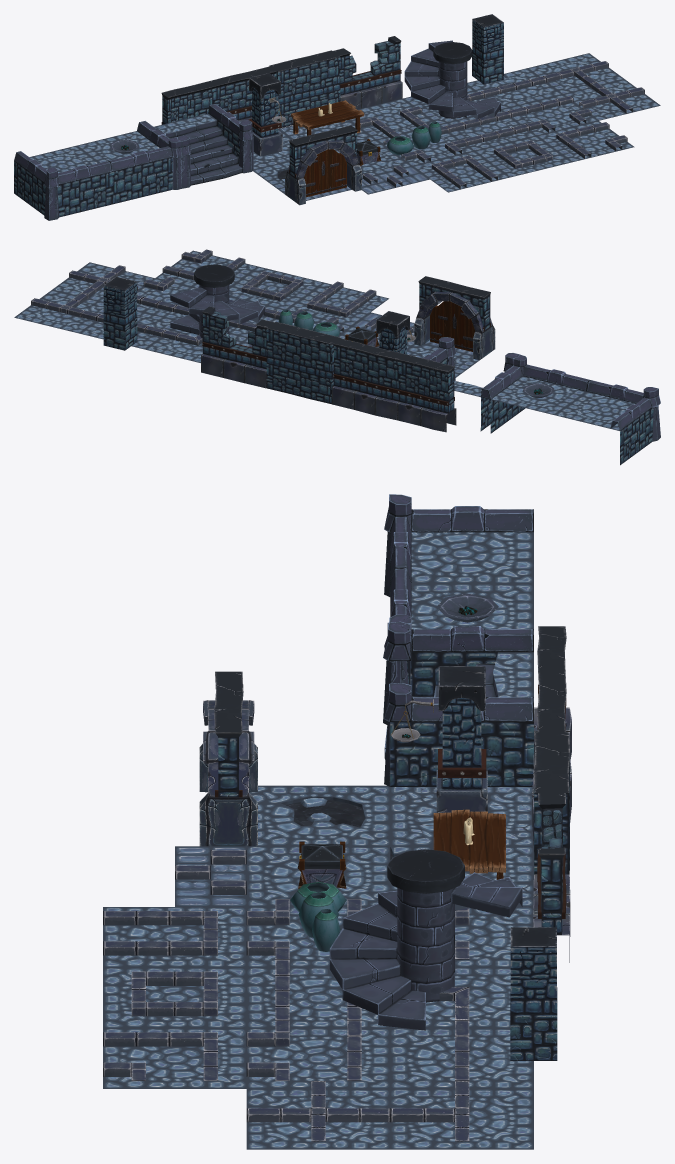
File: blue_dungeon.fbx
3 renders of one model, top to bottom at view 1: azimuth 30°, elevation 25°; view 2: azimuth 150°, elevation 25°; view 3: azimuth 270°, elevation 25°, orthographic. The views are drawn at different scales.
Visible parts, largest first — view 1: ground-2_corner, stairs_1, stairs_2, ground-2, wall2, ground_9, ground_12, Cube_001, ground_7, ground_5, ground_6, pylon_1 (+25 smaller); view 2: wall2, ground-2_corner, stairs_2, wall1, wall3, stairs_1, ground-2, ground_6, ground_5, Cube_001, ground_13, pylon_2 (+18 smaller); view 3: stairs_2, stairs_1, ground-2_corner, ground_7, ground_12, ground_5, ground_13, ground_9, ground_6, ground_3, ground_15, pylon_1 (+21 smaller).
Part boxes in pixels (box(x1,y1,x2,y2)): ground-2_corner: box(14, 146, 111, 220); stairs_1: box(137, 103, 253, 189); stairs_2: box(404, 40, 500, 119); ground-2: box(76, 131, 172, 204); wall2: box(269, 50, 340, 128); ground_9: box(537, 121, 634, 162); ground_12: box(563, 79, 660, 120); Cube_001: box(333, 36, 401, 95); ground_7: box(501, 94, 598, 135); ground_5: box(475, 136, 571, 177); ground_6: box(412, 151, 509, 192); pylon_1: box(248, 73, 282, 156); wall2: box(266, 321, 341, 404); ground-2_corner: box(555, 380, 660, 465); stairs_2: box(170, 264, 264, 341); wall1: box(333, 338, 405, 401); wall3: box(398, 354, 454, 413); stairs_1: box(423, 337, 526, 433); ground-2: box(491, 364, 590, 414); ground_6: box(287, 281, 388, 325); ground_5: box(229, 266, 323, 309); Cube_001: box(202, 306, 274, 369); ground_13: box(14, 290, 103, 333); pylon_2: box(103, 276, 137, 350); stairs_2: box(329, 849, 522, 1030); stairs_1: box(384, 614, 533, 786); ground-2_corner: box(384, 494, 533, 596); ground_7: box(246, 1020, 390, 1088); ground_12: box(246, 1081, 390, 1149); ground_5: box(103, 967, 246, 1028); ground_13: box(390, 1081, 533, 1149); ground_9: box(103, 1028, 246, 1088); ground_6: box(103, 907, 246, 967); ground_3: box(249, 785, 390, 846); ground_15: box(390, 1020, 533, 1088); pylon_1: box(436, 666, 487, 812).
Size of the model in its own units: 74.34 by 8.84 by 26.12.
1 material, 1 textured.
